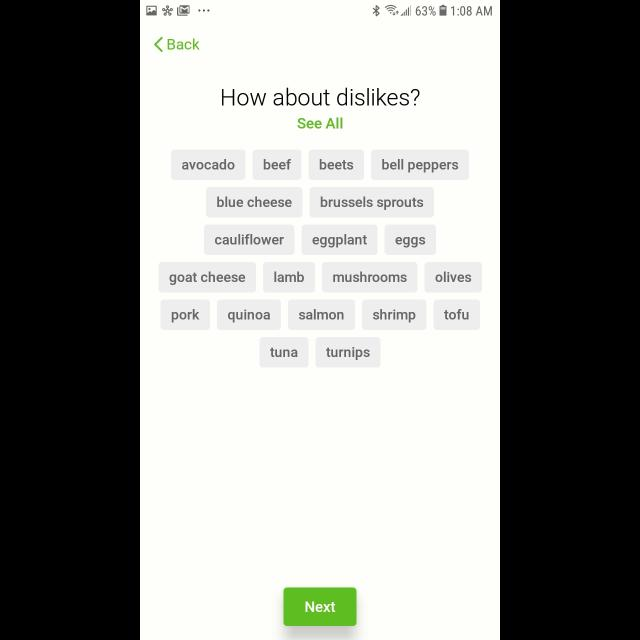icon: (154, 37, 164, 53)
text: (222, 88, 420, 106), (298, 118, 342, 130), (168, 38, 200, 50)
textbutton: (310, 186, 434, 218), (159, 262, 257, 294), (205, 186, 302, 218), (322, 262, 418, 294), (204, 224, 296, 256), (371, 150, 469, 180), (284, 588, 356, 626), (302, 224, 378, 256), (172, 150, 246, 180), (288, 300, 356, 330), (316, 337, 380, 368), (362, 300, 426, 330), (217, 300, 281, 330), (424, 262, 482, 294), (308, 150, 364, 180), (384, 224, 436, 256), (263, 262, 315, 294), (252, 150, 302, 180), (161, 300, 211, 330), (260, 337, 308, 368), (434, 300, 481, 330)
uppertaskbar: (140, 1, 500, 18)
